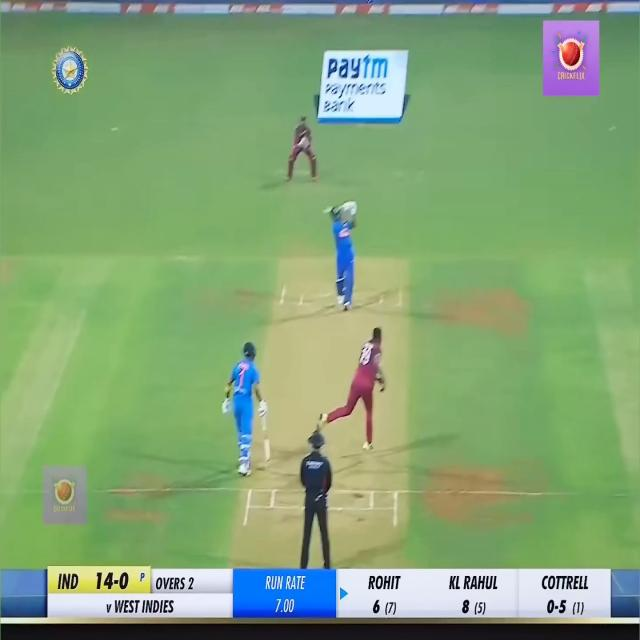fully_visible: (319, 45, 397, 86)
